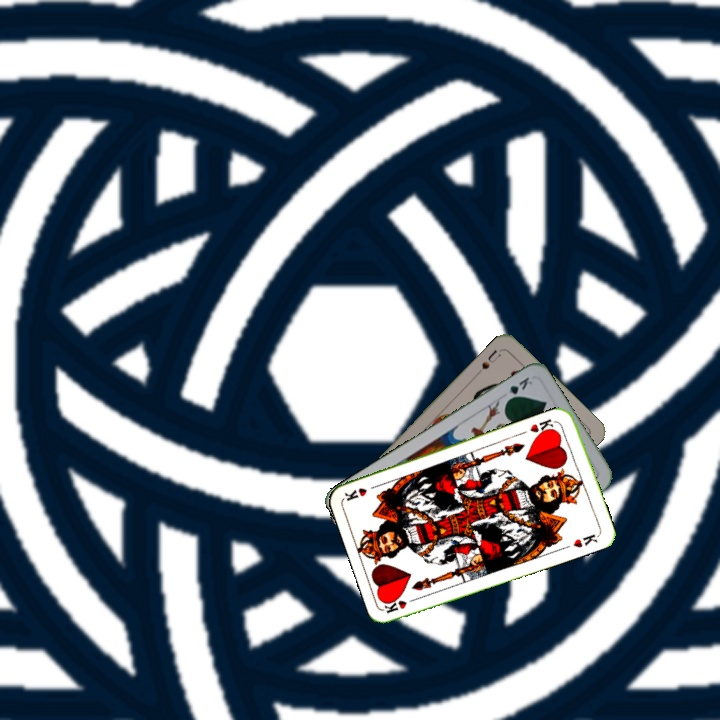GK: (502, 373, 535, 404)
HK: (381, 593, 422, 616), (526, 415, 557, 439)
SU: (474, 345, 505, 377)
